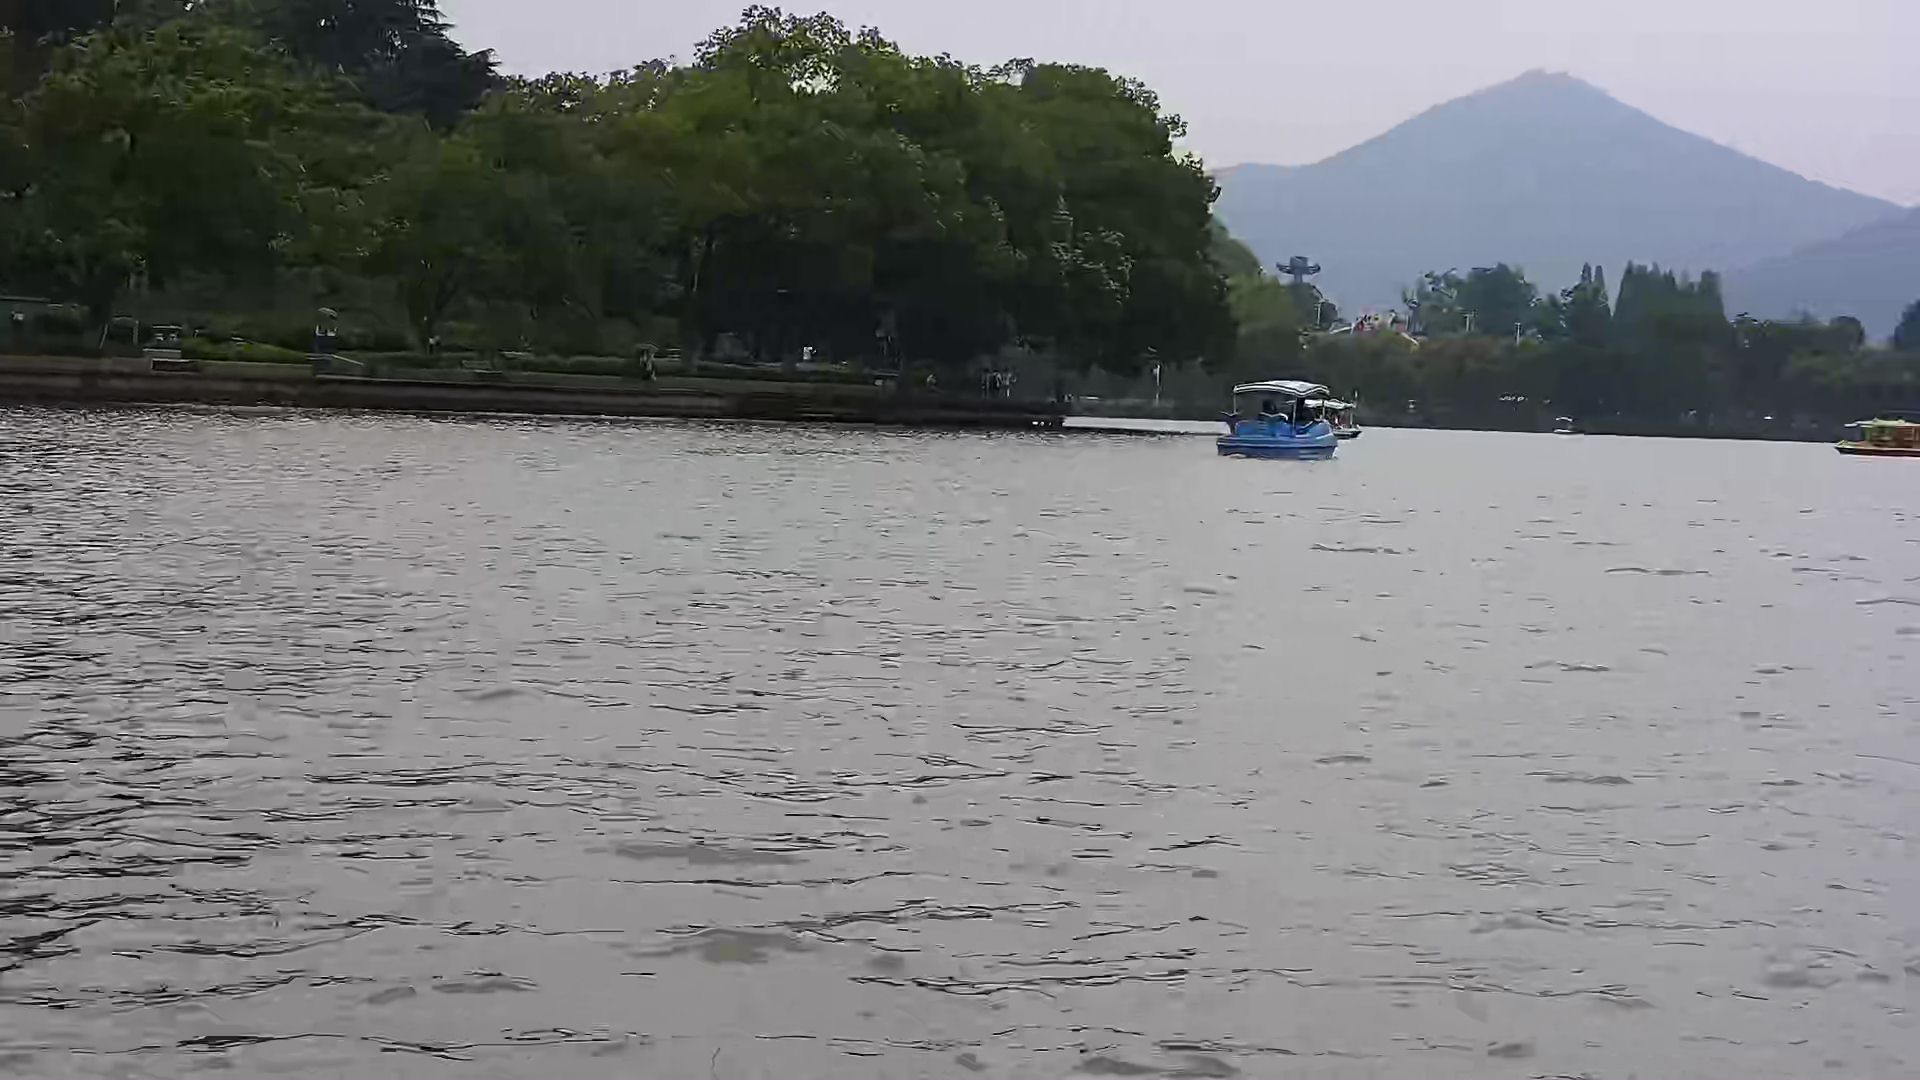boat: (1205, 367, 1346, 463), (1818, 404, 1920, 465), (1302, 392, 1371, 440), (1547, 407, 1575, 448)
